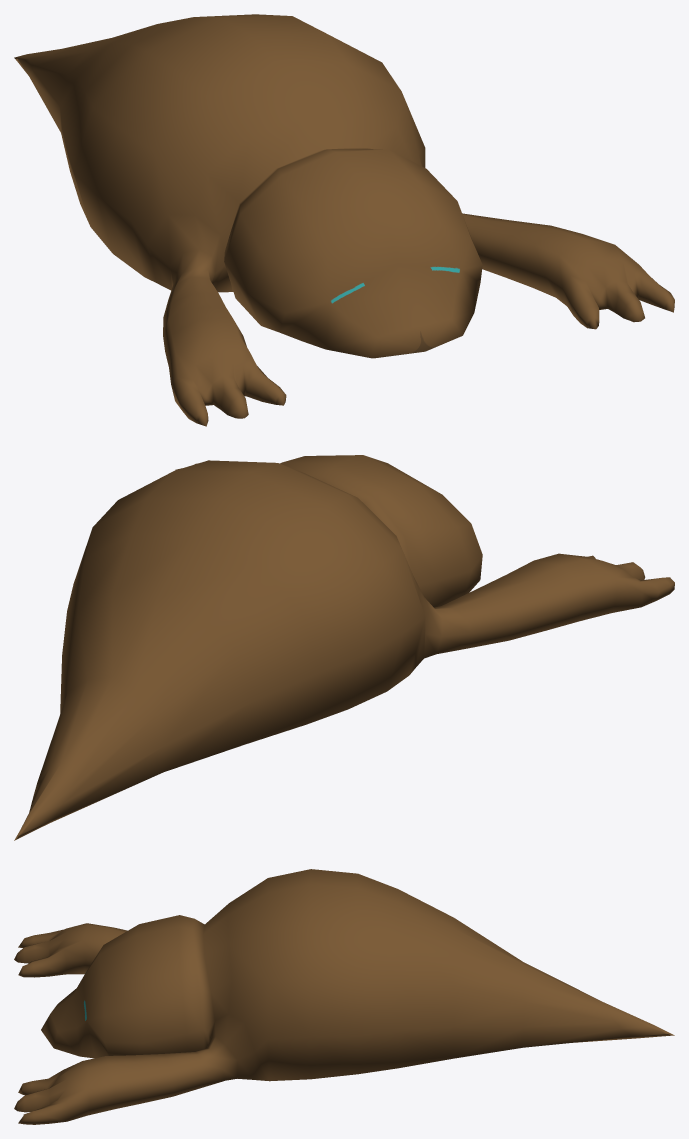
The model's file is minibeta1007.fbx.
The picture shows the model from 3 angles, top to bottom: view 1: azimuth 30°, elevation 25°; view 2: azimuth 150°, elevation 25°; view 3: azimuth 270°, elevation 25°; orthographic projection. The views are drawn at different scales.
Parts seen in each view (by area): view 1: pCube1; view 2: pCube1; view 3: pCube1.
Part boxes in pixels (left/top/right/bottom): pCube1: left=14, top=14, right=674, bottom=426; pCube1: left=14, top=455, right=674, bottom=840; pCube1: left=14, top=869, right=674, bottom=1124.
Size of the model in its own units: 0.000452 by 0.000175 by 0.000696.
2 materials, 1 textured.
